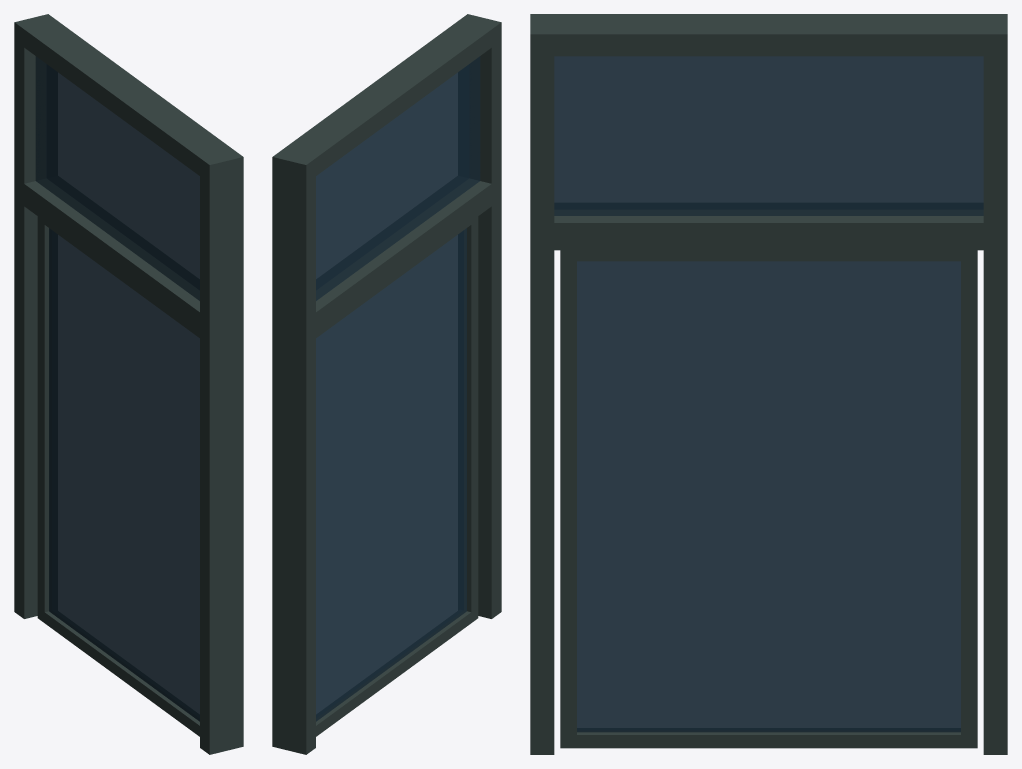
Rendered from door 2.fbx.
3 views of the same model, side by side, from view 1: azimuth 30°, elevation 25°; view 2: azimuth 150°, elevation 25°; view 3: azimuth 270°, elevation 25° (orthographic). The views are drawn at different scales.
Visible parts, largest first — view 1: Cube.072, Cube.058; view 2: Cube.072, Cube.058; view 3: Cube.058, Cube.072.
Part boxes in pixels (x1,y1,x2,y2): Cube.072: (14, 14, 243, 754); Cube.058: (37, 216, 199, 736); Cube.072: (272, 14, 501, 754); Cube.058: (316, 216, 478, 736); Cube.058: (560, 250, 977, 748); Cube.072: (530, 14, 1007, 754).
Size of the model in its own units: 30 by 500 by 300.
